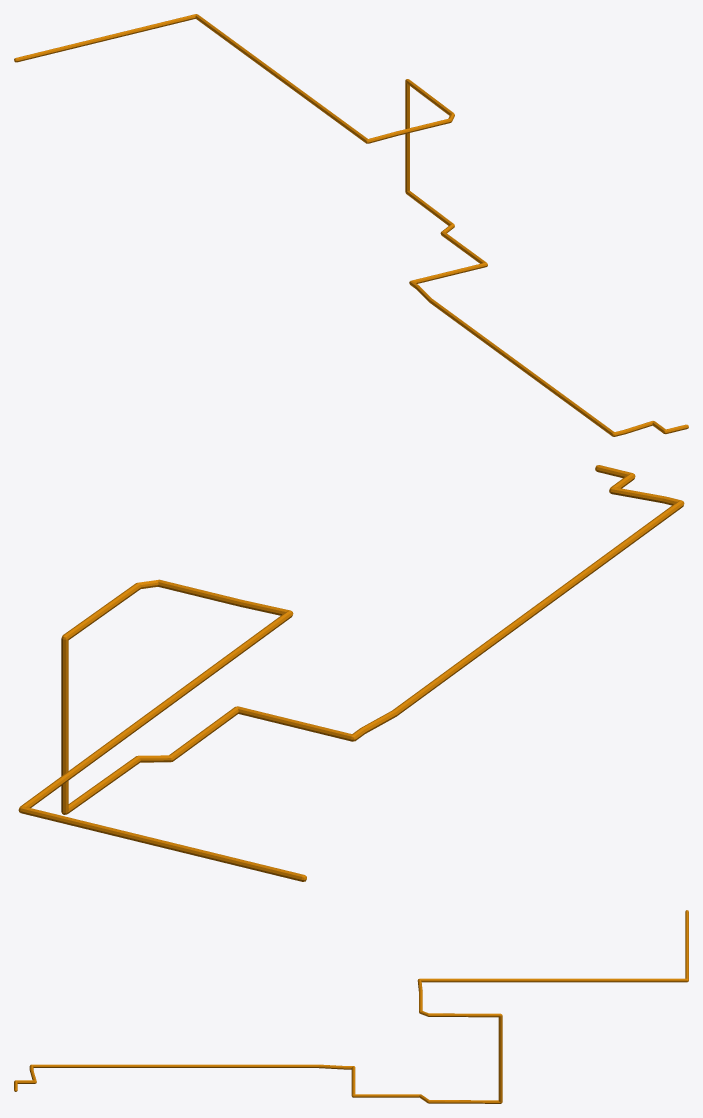
3 views of the same model, one above another, from view 1: azimuth 30°, elevation 25°; view 2: azimuth 150°, elevation 25°; view 3: azimuth 270°, elevation 25° (orthographic). The views are drawn at different scales.
Size of the model in its own units: 1304 by 520 by 3533.
